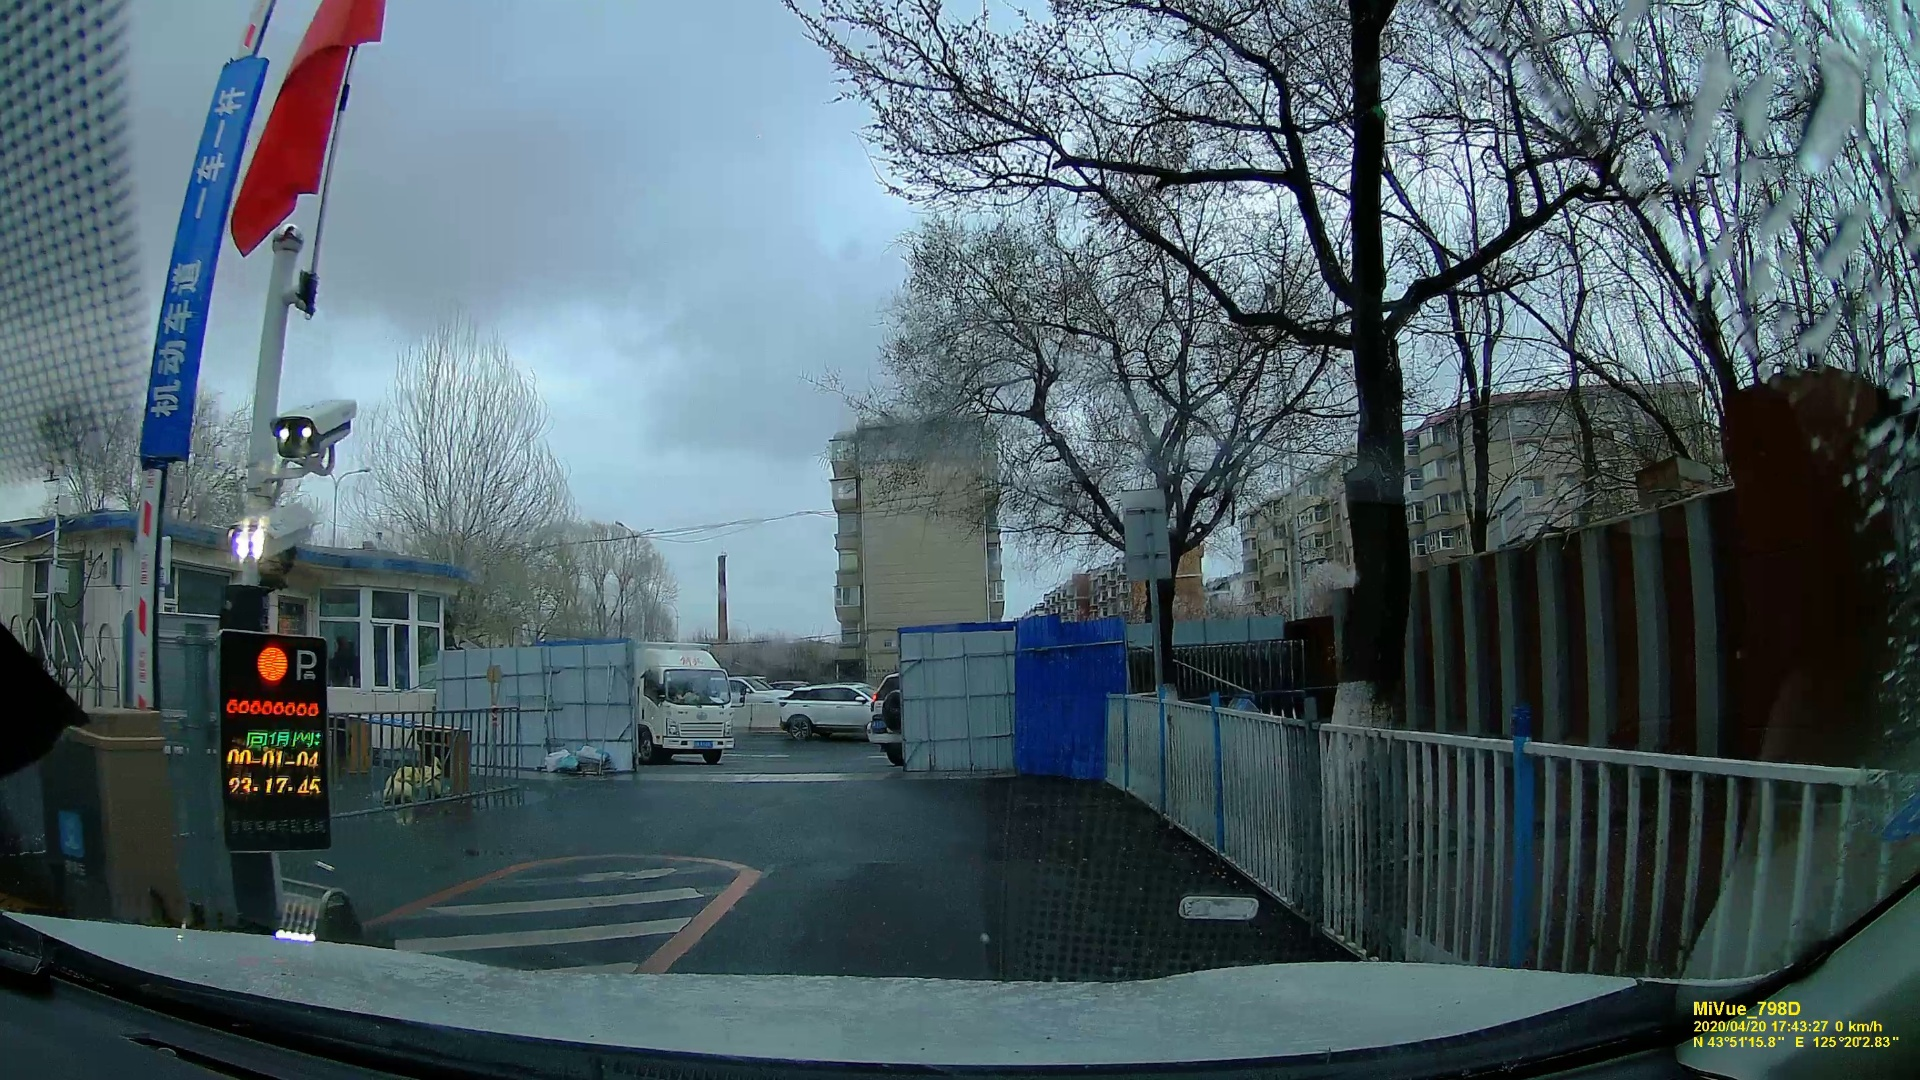truck: (632, 642, 733, 765)
vehicle: (777, 684, 870, 741)
